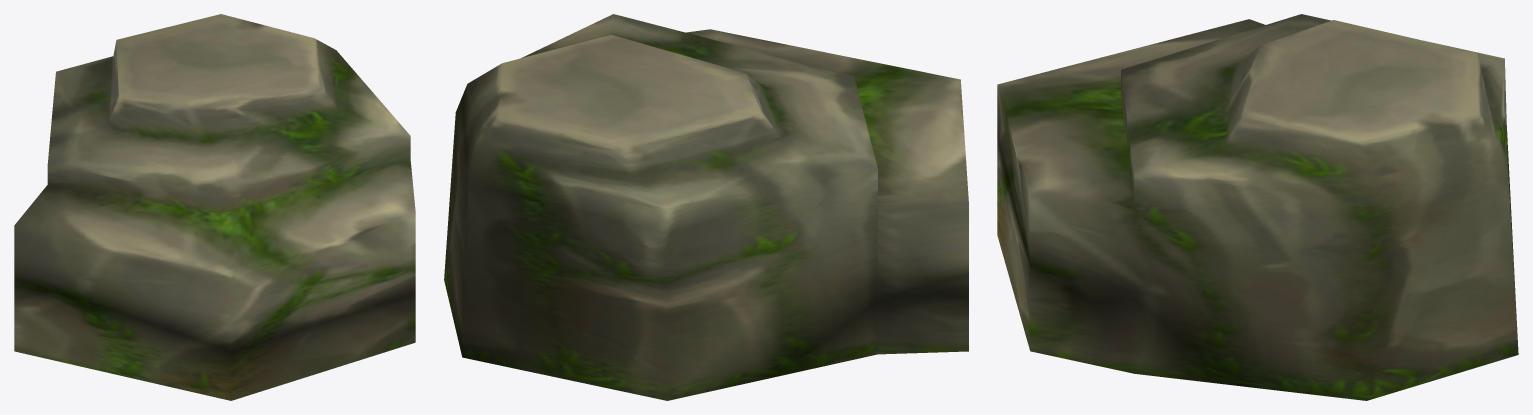
The model's file is RockFormation_4_5 (50).fbx.
3 views of the same model, side by side, from view 1: azimuth 30°, elevation 25°; view 2: azimuth 150°, elevation 25°; view 3: azimuth 270°, elevation 25° (orthographic). The views are drawn at different scales.
Visible parts, largest first — view 1: RockFormation_4_5 (50); view 2: RockFormation_4_5 (50); view 3: RockFormation_4_5 (50).
Part boxes in pixels (x1,y1,x2,y2): RockFormation_4_5 (50): (14, 14, 415, 400); RockFormation_4_5 (50): (444, 14, 968, 400); RockFormation_4_5 (50): (997, 14, 1518, 400).
Bounding box in the file's own units: 932 × 437 × 889.
